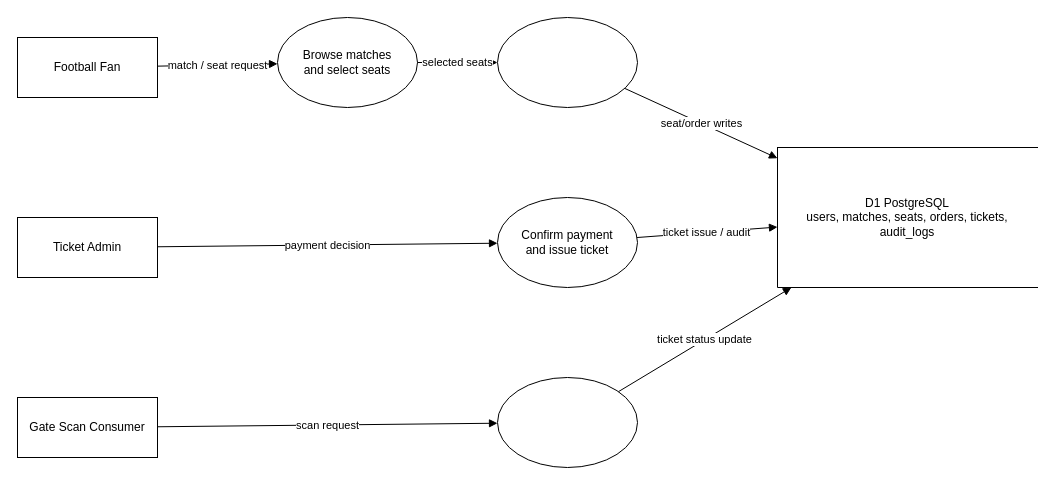
This 1055x485 diagram has some shape labels left out. The box of each missing label's shape, as (x1, y1, x2, y2) in pixels:
Hold seats and create order: (496, 16, 638, 108)
Scan ticket: (496, 376, 638, 468)
